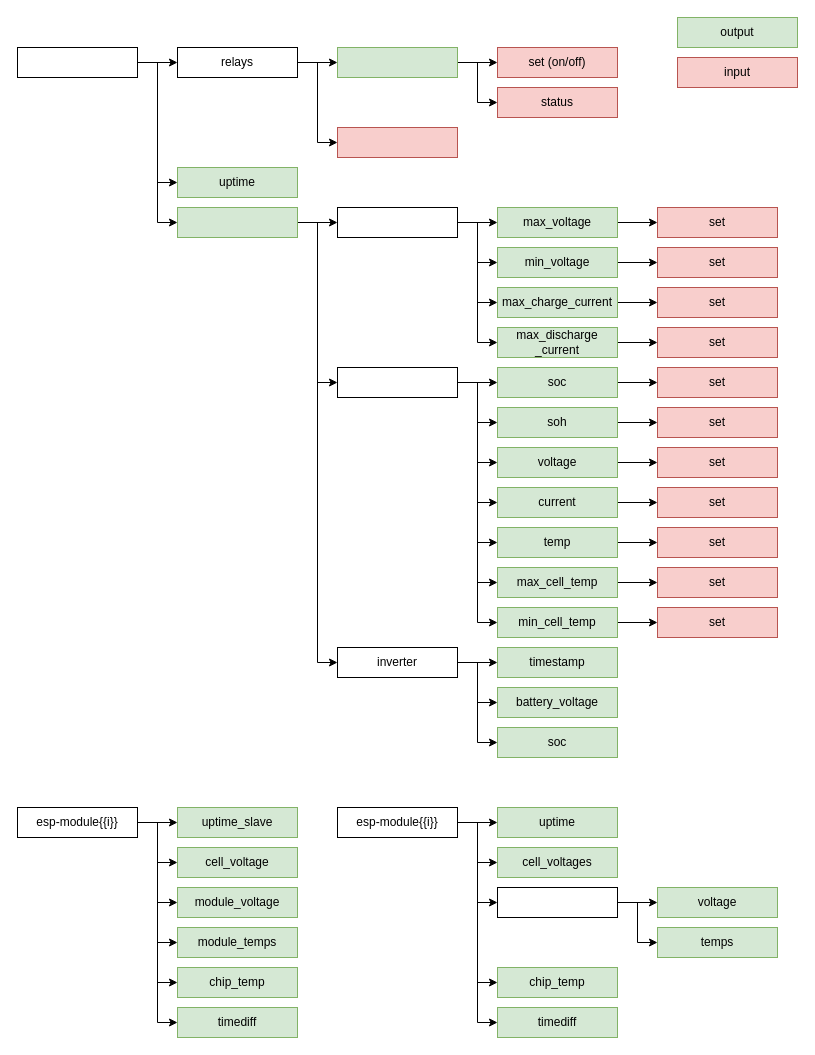
The diagram is 815 pixels wide and 1055 high, and some of its shapes have lost their labels. The centre of each missing label's shape, as x and y in pixels:
"battery" belongs at (x=397, y=382).
"can (running/stopped)" belongs at (x=237, y=222).
"limits" belongs at (x=397, y=222).
"master" belongs at (x=77, y=62).
"module" belongs at (x=557, y=902).
"precharge" belongs at (x=397, y=142).
"{{relay_number}} (on/off)" belongs at (x=397, y=62).
